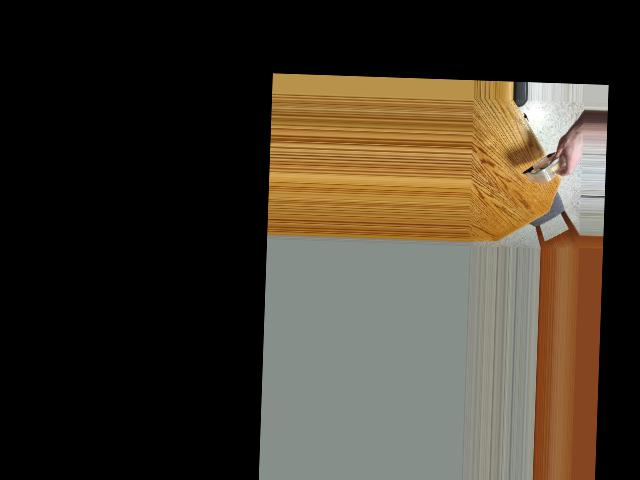cheese: (526, 135, 572, 189)
